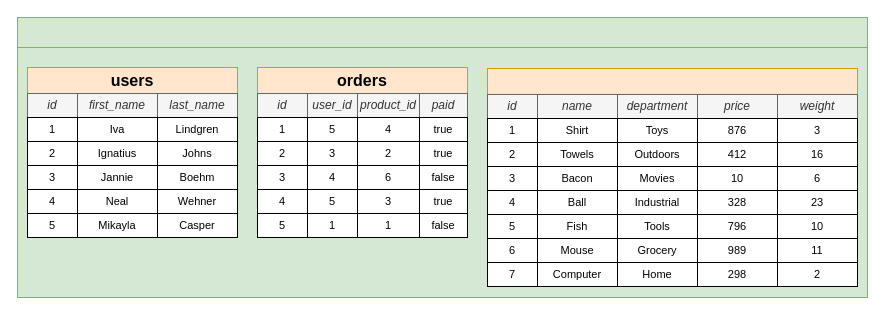
Image size: 885x315. Some labels were removed from this diagram. Here are the shapes that lost their labels. From the top down, the centre of each, then its label:
At pixel 442 32: "Database".
At pixel 672 81: "products".
